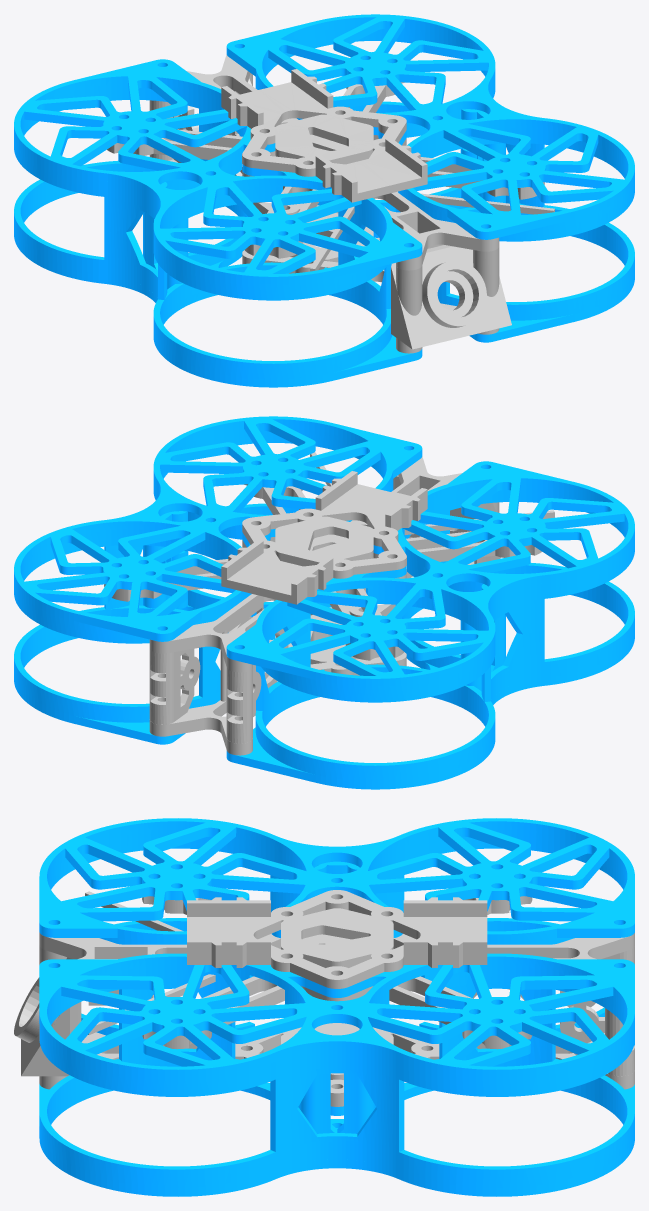
Rendered from bateleur.v0.2.gltf.
3 views of the same model, one above another, from view 1: azimuth 30°, elevation 25°; view 2: azimuth 150°, elevation 25°; view 3: azimuth 270°, elevation 25° (orthographic). The views are drawn at different scales.
Parts seen in each view (by area): view 1: Propguards, Batteryplate, Coretop, Antennamount, Corebottom, Camerabrackets; view 2: Propguards, Batteryplate, Coretop, Camerabrackets, Corebottom, Antennamount; view 3: Propguards, Batteryplate, Coretop, Corebottom, Antennamount, Camerabrackets.
Boxes of the visible parts, x1=… form: Propguards: x1=14, y1=14, x2=634, y2=387; Batteryplate: x1=221, y1=69, x2=427, y2=202; Coretop: x1=107, y1=54, x2=554, y2=271; Antennamount: x1=391, y1=245, x2=511, y2=349; Corebottom: x1=149, y1=156, x2=499, y2=353; Camerabrackets: x1=149, y1=73, x2=252, y2=162; Propguards: x1=14, y1=416, x2=634, y2=789; Batteryplate: x1=221, y1=471, x2=427, y2=604; Coretop: x1=104, y1=452, x2=554, y2=703; Camerabrackets: x1=149, y1=648, x2=261, y2=743; Corebottom: x1=149, y1=561, x2=474, y2=755; Antennamount: x1=393, y1=475, x2=501, y2=563; Propguards: x1=39, y1=818, x2=634, y2=1196; Batteryplate: x1=187, y1=890, x2=487, y2=988; Coretop: x1=39, y1=891, x2=634, y2=1049; Corebottom: x1=39, y1=1023, x2=634, y2=1106; Antennamount: x1=14, y1=945, x2=81, y2=1076; Camerabrackets: x1=560, y1=946, x2=634, y2=1076.
Bounding box in the file's own units: 119 × 33 × 124.
